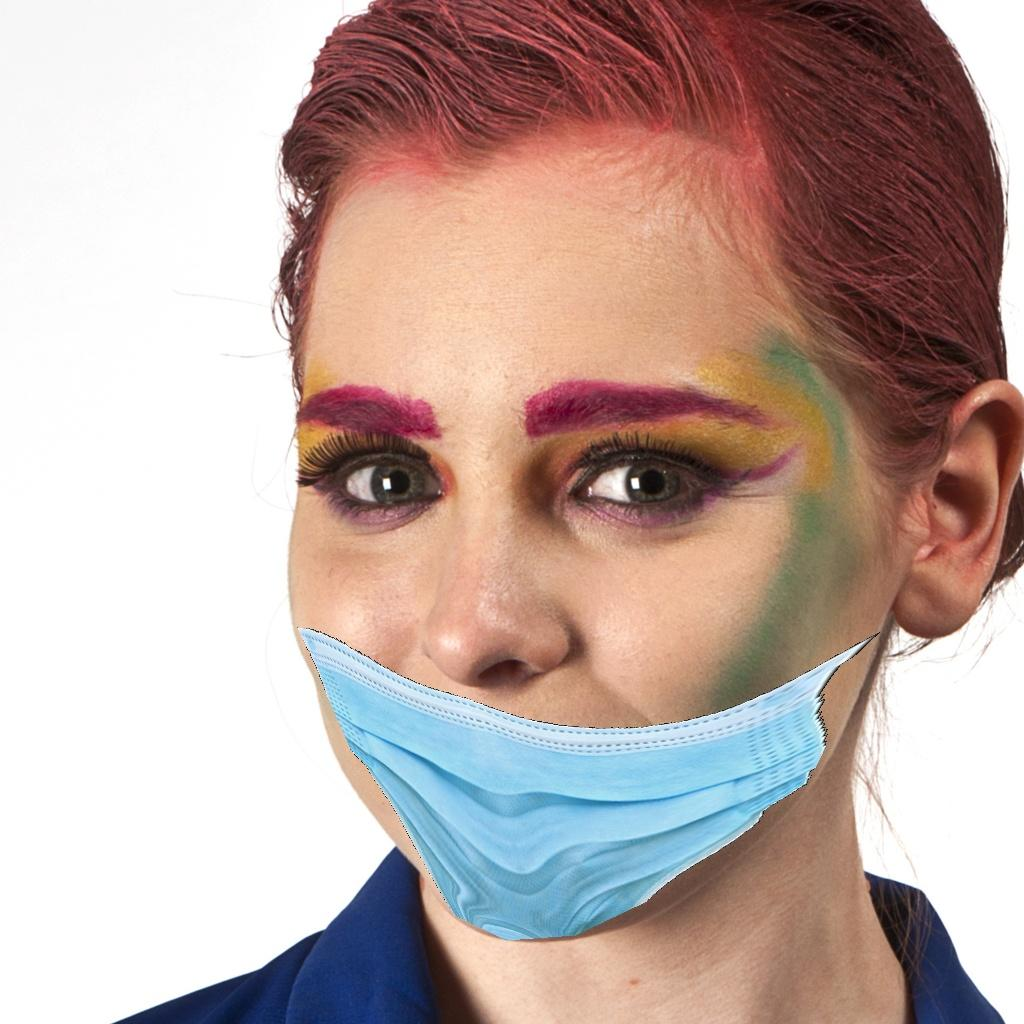Máscara Incorreta: (273, 222, 847, 889)
